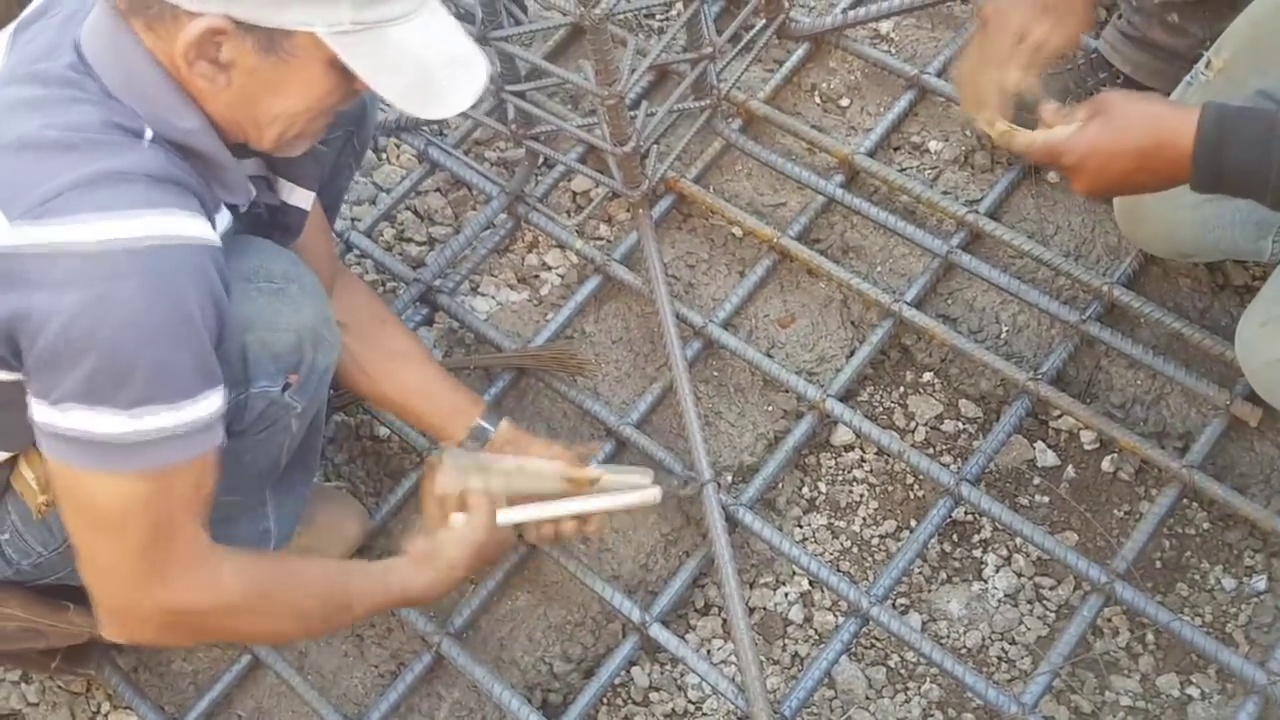helmet-off: (92, 0, 501, 165)
person: (0, 0, 601, 658), (950, 0, 1279, 413)
